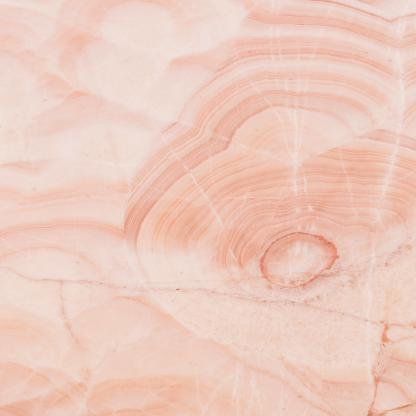Sedimentary_Sandstone: (1, 0, 412, 415)
